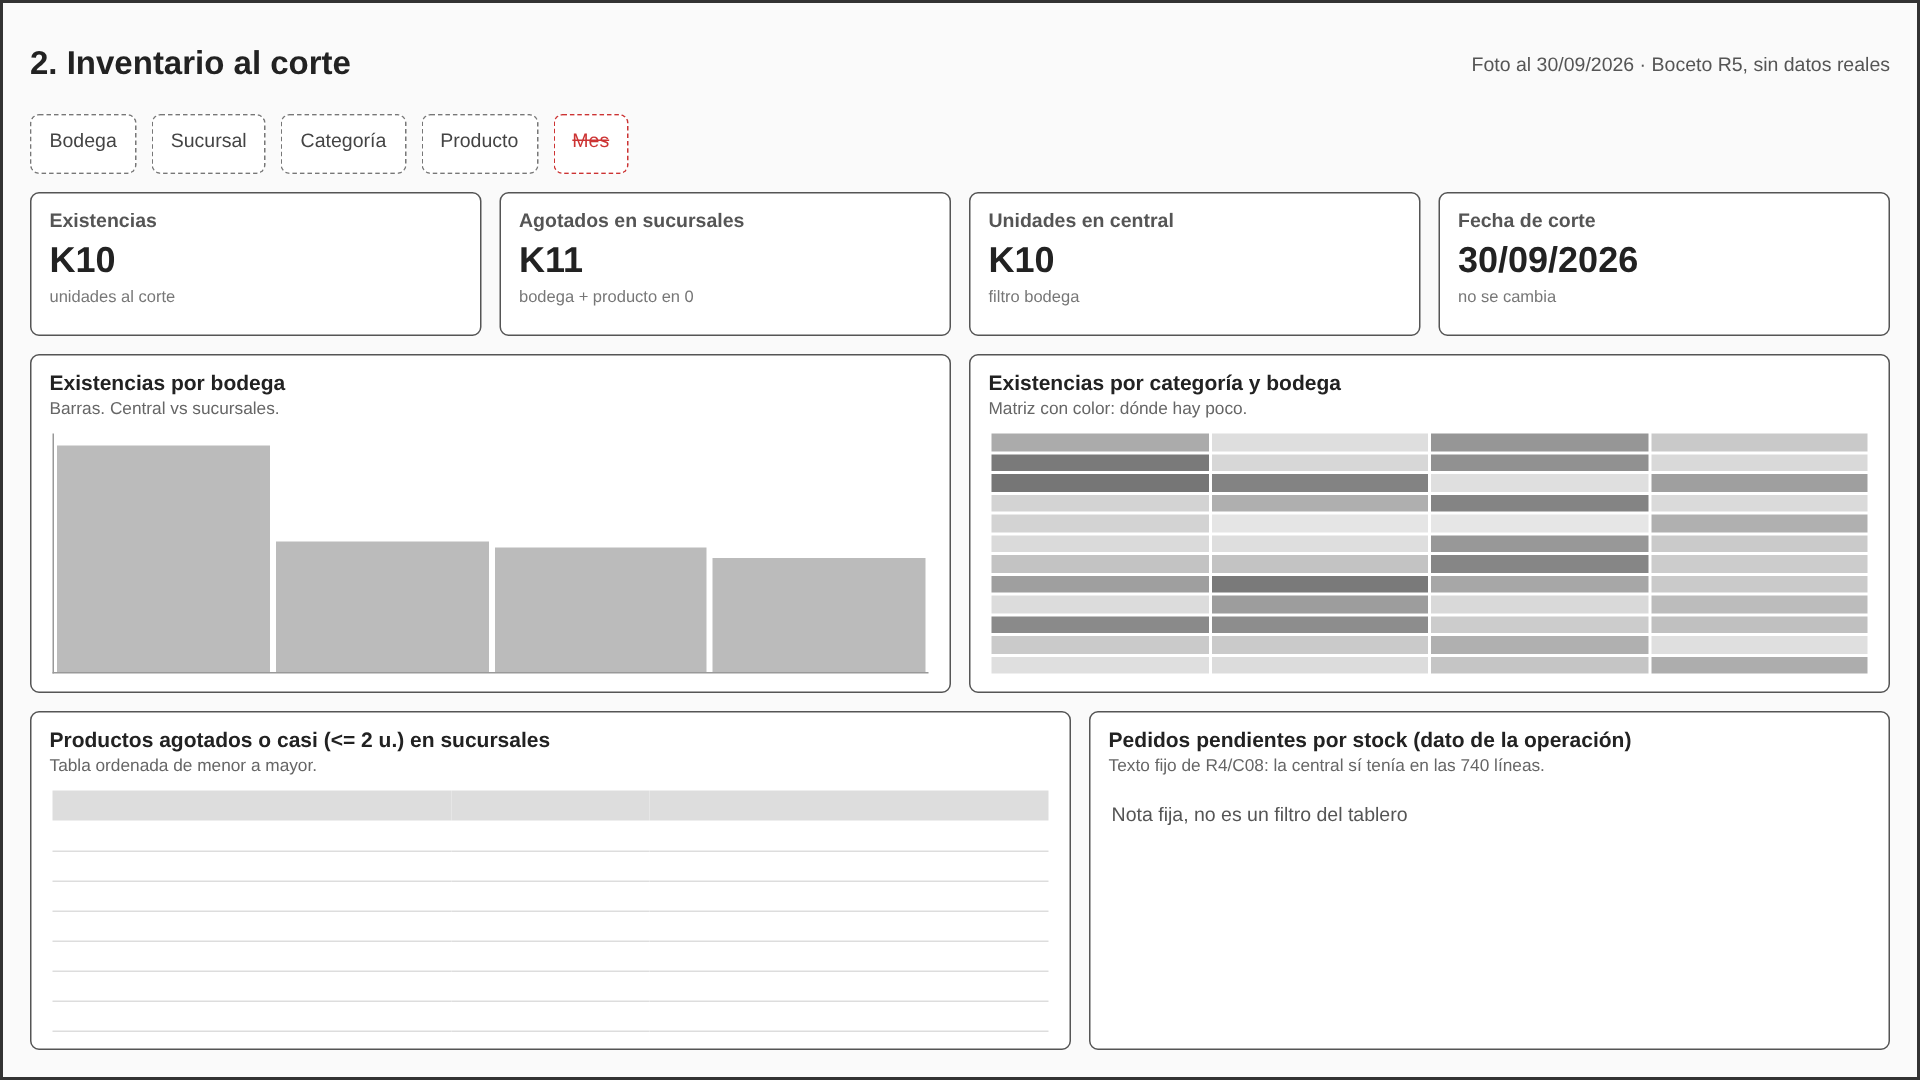

The page's visual inventory and layout, read from the dashboard file:
{"tool":"powerbi","page":{"name":"2. Inventario al corte","canvas":[1920,1080],"ordinal":1},"visuals":[{"type":"slicer","fields":{"Values":["dwh dim_sucursal.nombre"]},"box":[0,0,387.4,101.9],"z":0},{"type":"slicer","fields":{"Values":["dwh dim_producto.categoria"]},"box":[859.7,0,387.4,92.6],"z":1},{"type":"slicer","fields":{"Values":["dwh dim_bodega.bodega"]},"box":[439.9,4.6,387.4,92.6],"z":2},{"type":"cardVisual","fields":{"Data":["dwh fact_movimiento_inventario.K10 Existencias al corte","dwh fact_movimiento_inventario.K11 Productos agotados en sucursales"]},"box":[0,115.8,984.7,155.9],"z":3},{"type":"clusteredColumnChart","fields":{"Category":["dwh dim_bodega.bodega"],"Y":["dwh fact_movimiento_inventario.K10 Existencias al corte"]},"box":[0,291.7,984.7,395.1],"z":4},{"type":"pivotTable","fields":{"Columns":["dwh dim_bodega.bodega"],"Rows":["dwh dim_producto.categoria"],"Values":["dwh fact_movimiento_inventario.K10 Existencias al corte"]},"box":[960,149.7,939.9,537.1],"z":5},{"type":"tableEx","fields":{"Values":["dwh dim_bodega.bodega","dwh dim_producto.producto","dwh dim_producto.categoria","dwh fact_movimiento_inventario.K10 Existencias al corte"]},"box":[960,697,940,383],"z":6},{"type":"textbox","box":[0,697,930,383],"z":7}]}

Visuals, with their boxes in screenshot pixels (x1, y1, x2, y2), scaled from the page's 1920x1080 canvas onto the 1926x1086 screenshot:
slicer - dwh dim_sucursal.nombre: bbox(0, 0, 389, 102)
slicer - dwh dim_producto.categoria: bbox(862, 0, 1251, 93)
slicer - dwh dim_bodega.bodega: bbox(441, 5, 830, 98)
cardVisual - dwh fact_movimiento_inventario.K10 Existencias al corte x dwh fact_movimiento_inventario.K11 Productos agotados en sucursales: bbox(0, 116, 988, 273)
clusteredColumnChart - dwh dim_bodega.bodega x dwh fact_movimiento_inventario.K10 Existencias al corte: bbox(0, 293, 988, 691)
pivotTable - dwh dim_bodega.bodega x dwh dim_producto.categoria: bbox(963, 151, 1906, 691)
tableEx - dwh dim_bodega.bodega x dwh dim_producto.producto: bbox(963, 701, 1906, 1085)
textbox: bbox(0, 701, 933, 1085)
